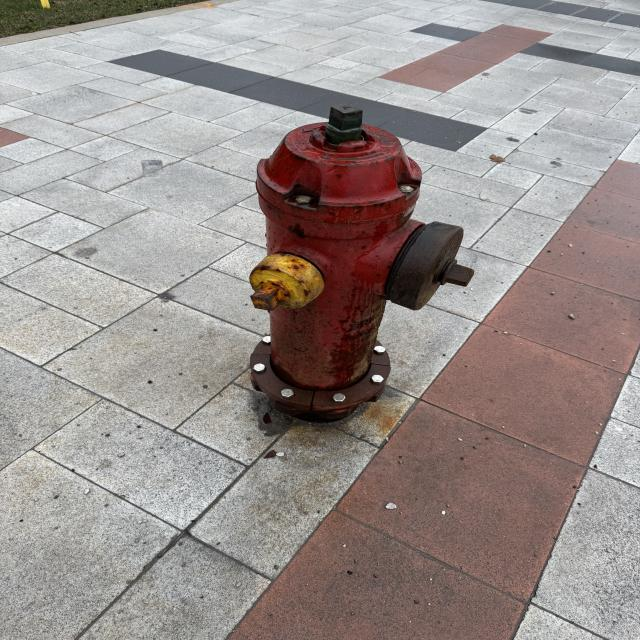Fire hydrant: (247, 103, 476, 422)
